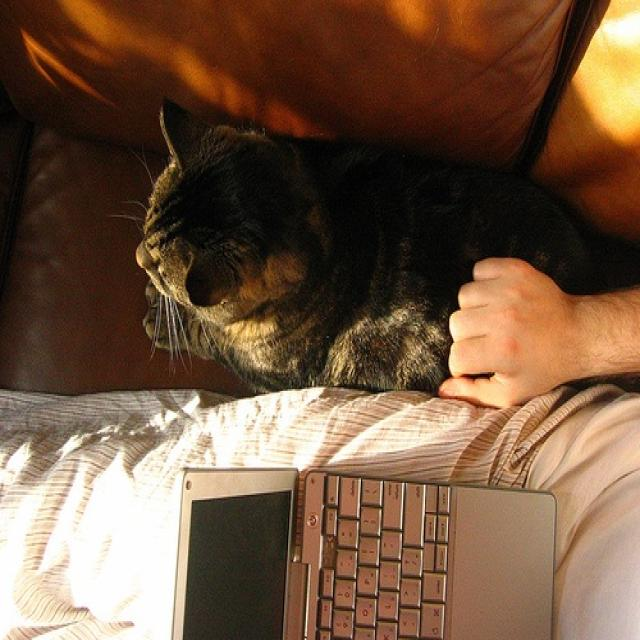cat: (128, 95, 640, 397)
